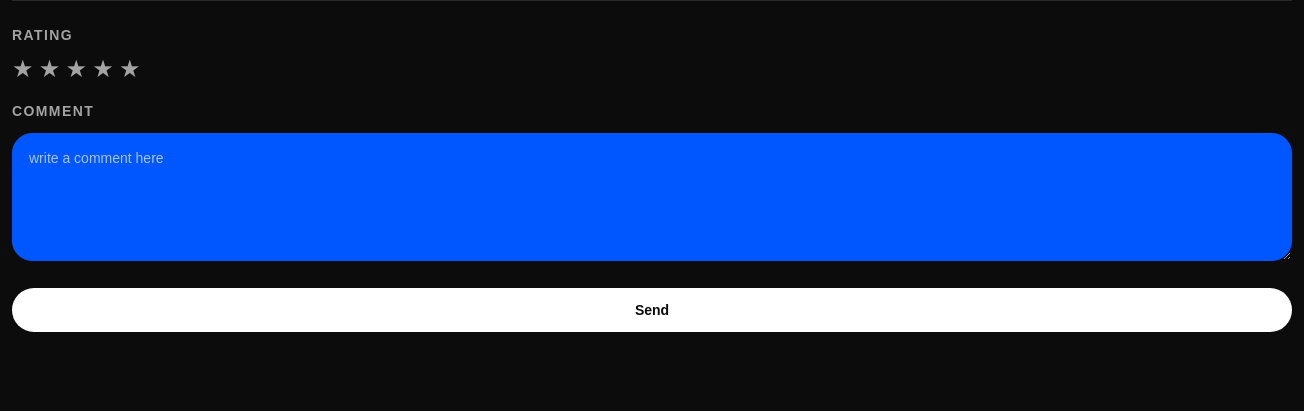
it: CreateCommentForm › validates rating and body
The width and height of the screenshot is (1304, 411).
Click the button "Send".
click(652, 310)  # box [12,288,1292,332]
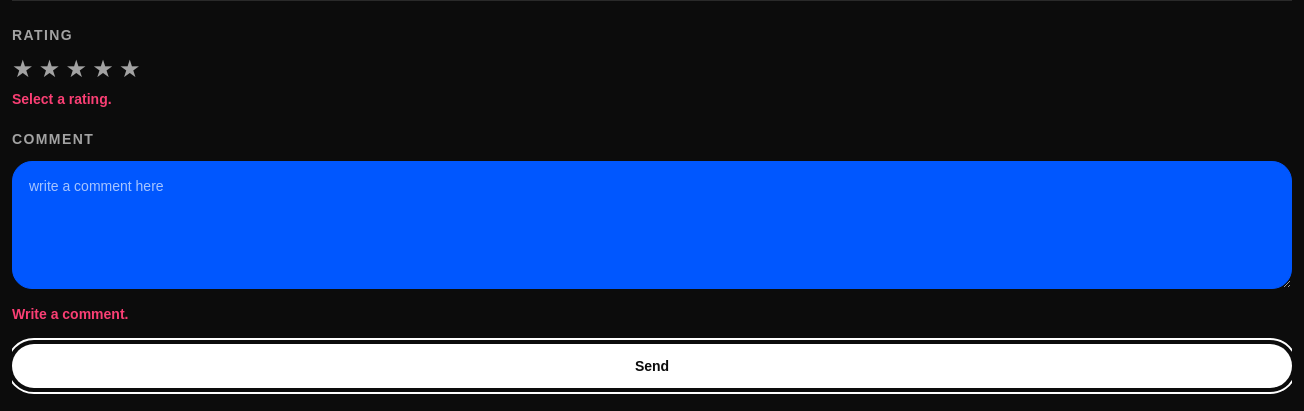
Result: the text "Select a rating." is shown at [12,91,112,107]
Result: the text "Write a comment." is shown at [12,306,128,322]
